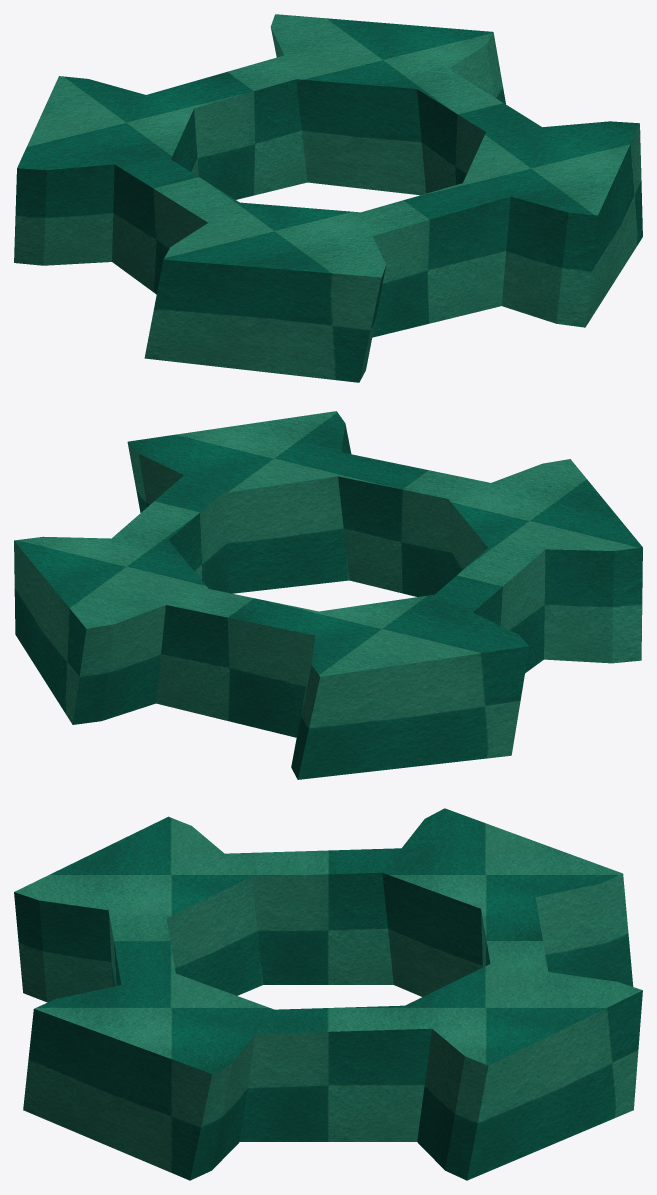
File: Gear_grass.gltf
3 renders of one model, top to bottom at view 1: azimuth 30°, elevation 25°; view 2: azimuth 150°, elevation 25°; view 3: azimuth 270°, elevation 25°, orthographic. The views are drawn at different scales.
Parts seen in each view (by area): view 1: Gear_grass_glb; view 2: Gear_grass_glb; view 3: Gear_grass_glb.
Boxes of the visible parts, left/top/right/bottom form: Gear_grass_glb: left=14, top=14, right=642, bottom=382; Gear_grass_glb: left=14, top=411, right=642, bottom=779; Gear_grass_glb: left=14, top=808, right=642, bottom=1180.
Size of the model in its own units: 2.06 by 0.4 by 2.06.
1 material, 1 textured.
